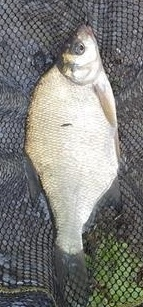Blicca bjoerkna: (20, 20, 123, 287)
